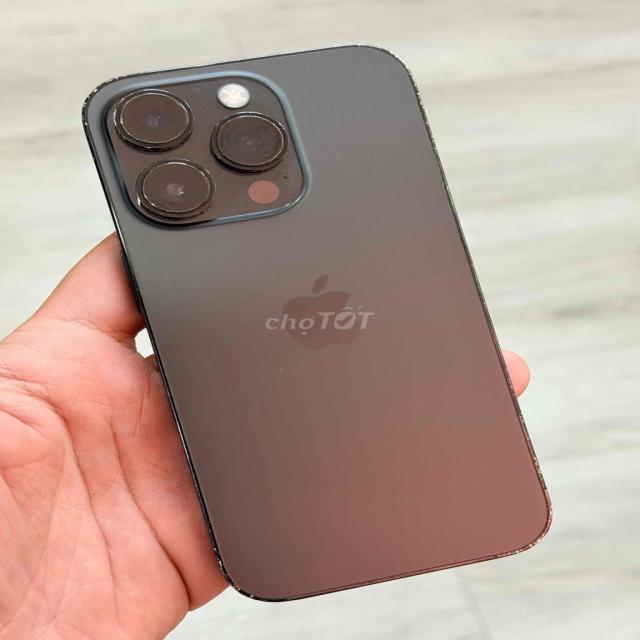gen_14: (79, 40, 562, 604)
scratch: (122, 85, 288, 219), (506, 360, 559, 510), (396, 45, 446, 161), (169, 395, 213, 505), (488, 522, 564, 568), (206, 550, 253, 606), (341, 34, 397, 56)
